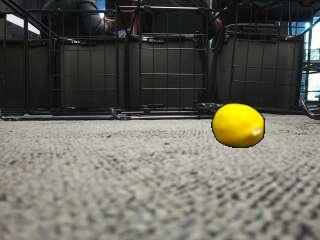lemon: (212, 105, 263, 148)
